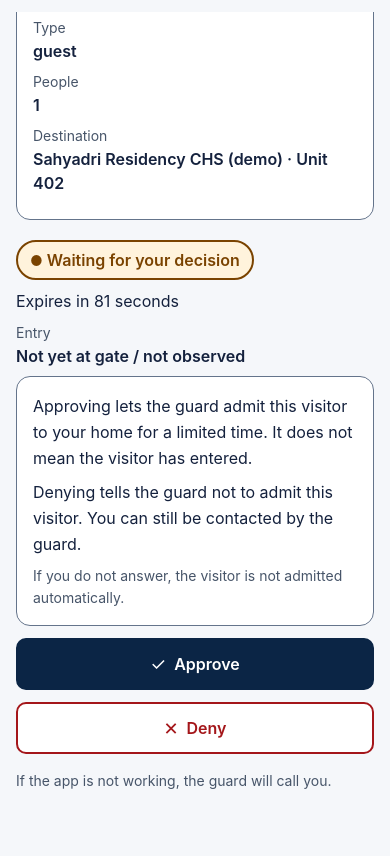
Test: approval decision screen › approve sends expected_version, a client_action_id and an Idempotency-Key, then shows 'Approved; not yet entered' with a receipt
The image size is (390, 856).
(page scrolled)
Click the button "✓ Approve" at (195, 664), box [16,638,374,690]
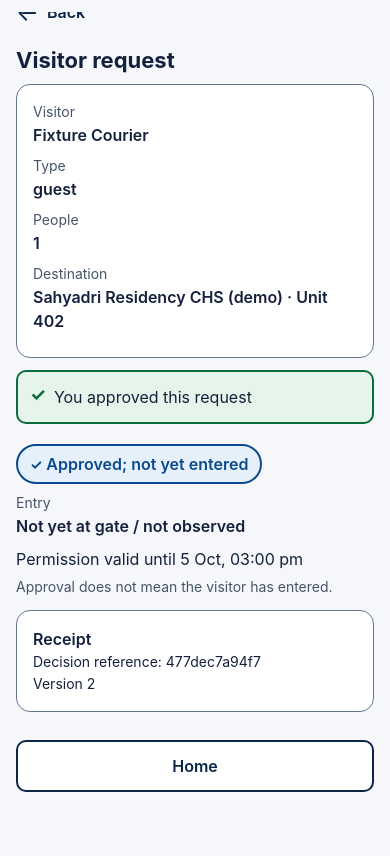
Now the element with test id "approval-closed" is shown, box [16,370,374,792]
Now the element labelled "Approved; not yet entered" is shown, box [16,444,262,484]
Now the text "You approved this request" is shown, box [54,387,252,407]
